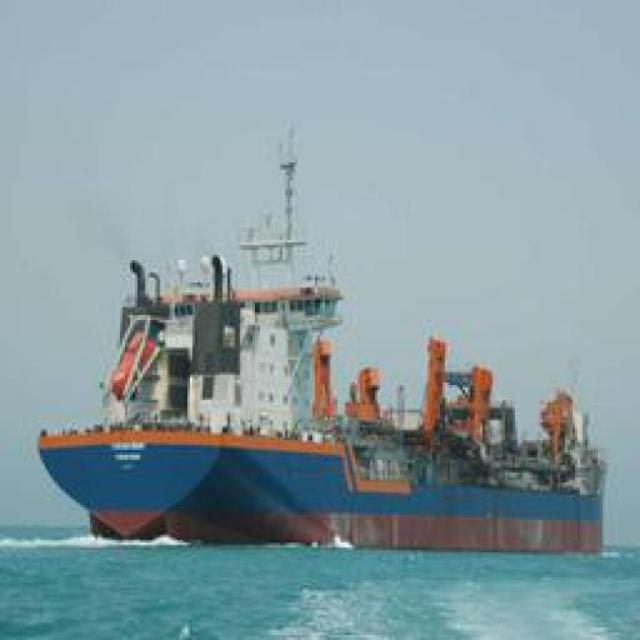boat: (26, 267, 610, 558)
